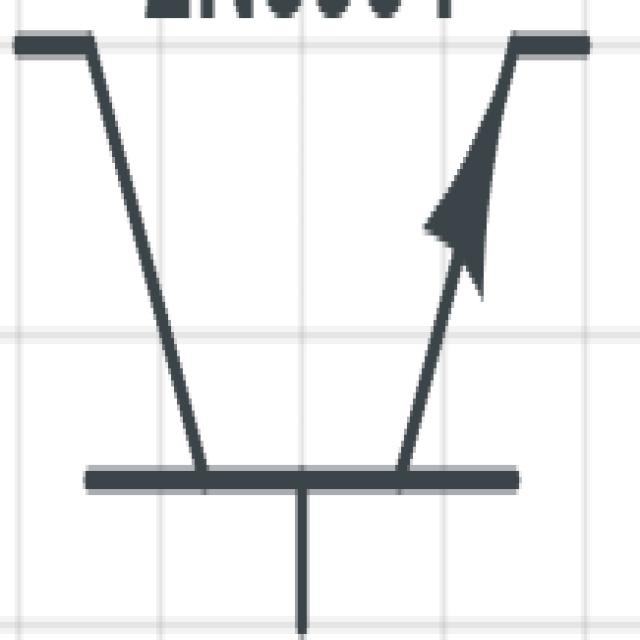bjt: (9, 26, 609, 634)
